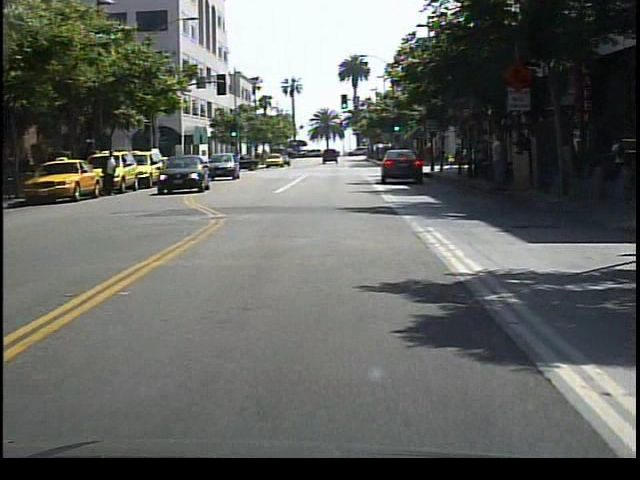person: (486, 130, 512, 199), (102, 147, 121, 200)
